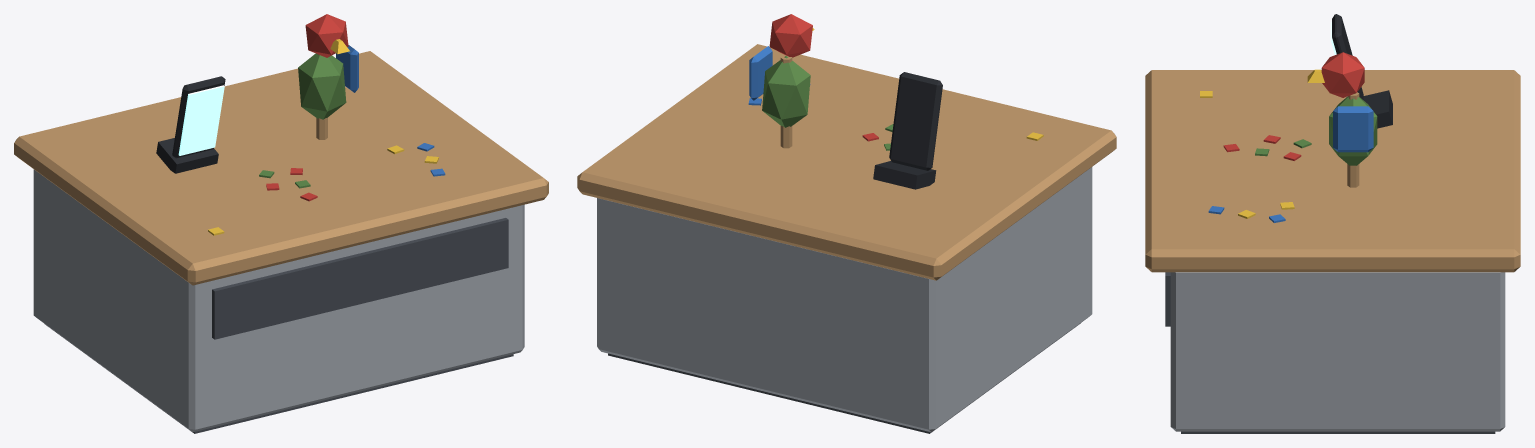
Rendered from quickreply_p2_4.glb.
3 renders of one model, left to right at view 1: azimuth 30°, elevation 25°; view 2: azimuth 150°, elevation 25°; view 3: azimuth 270°, elevation 25°, orthographic. The views are drawn at different scales.
Visible parts, largest first — view 1: quickreply_p2_4_mesh_Desk, quickreply_p2_4_mesh; view 2: quickreply_p2_4_mesh_Desk, quickreply_p2_4_mesh; view 3: quickreply_p2_4_mesh_Desk, quickreply_p2_4_mesh.
Boxes of the visible parts, x1,y1,x2,y2 form: quickreply_p2_4_mesh_Desk: (14, 51, 548, 433); quickreply_p2_4_mesh: (156, 14, 445, 235); quickreply_p2_4_mesh_Desk: (577, 44, 1116, 433); quickreply_p2_4_mesh: (748, 14, 1043, 189); quickreply_p2_4_mesh_Desk: (1145, 70, 1520, 433); quickreply_p2_4_mesh: (1200, 14, 1392, 222).
Bounding box in the file's own units: 0.86 × 0.71 × 0.74.
